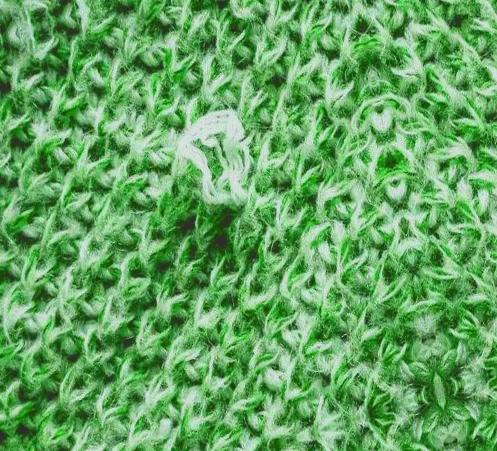snag: (169, 98, 260, 213)
